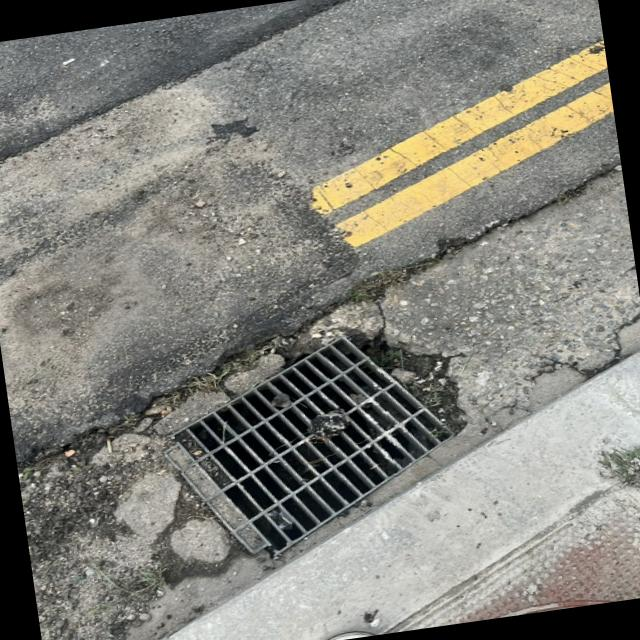drain_area: (188, 338, 439, 554)
drain_full: (156, 338, 454, 565)
